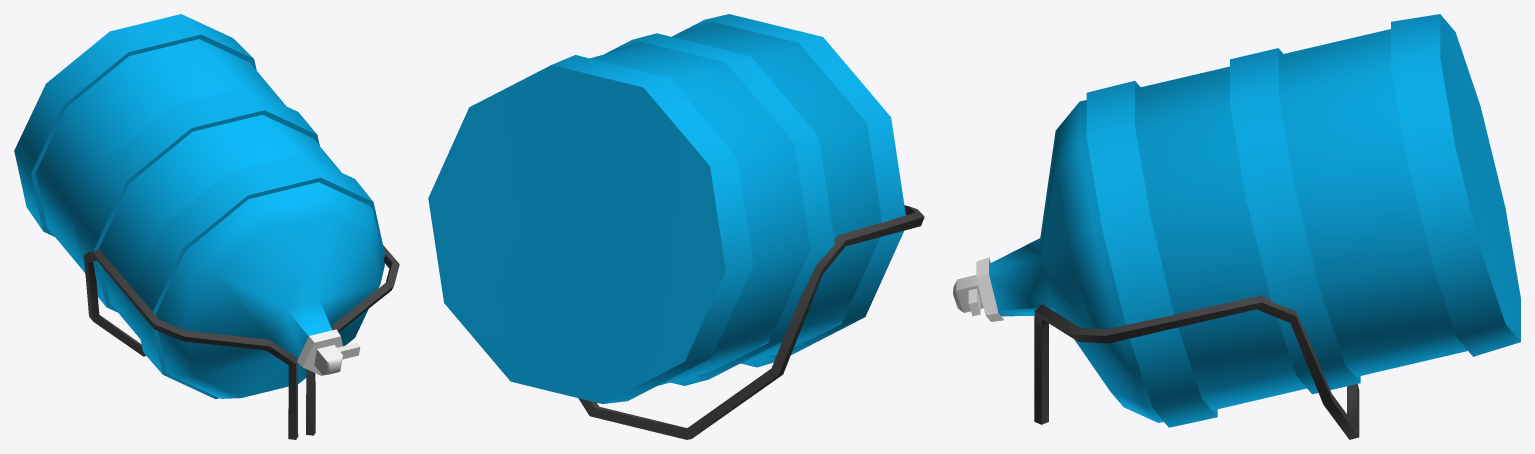
Rendered from electronics_022.glb.
3 renders of one model, left to right at view 1: azimuth 30°, elevation 25°; view 2: azimuth 150°, elevation 25°; view 3: azimuth 270°, elevation 25°, orthographic. The views are drawn at different scales.
Visible parts, largest first — view 1: electronics_022; view 2: electronics_022; view 3: electronics_022.
Part boxes in pixels (x1,y1,x2,y2): electronics_022: (14, 14, 399, 439); electronics_022: (428, 14, 924, 439); electronics_022: (953, 14, 1520, 439).
Size of the model in its own units: 0.3025 by 0.3512 by 0.4751.
1 material, 1 textured.
